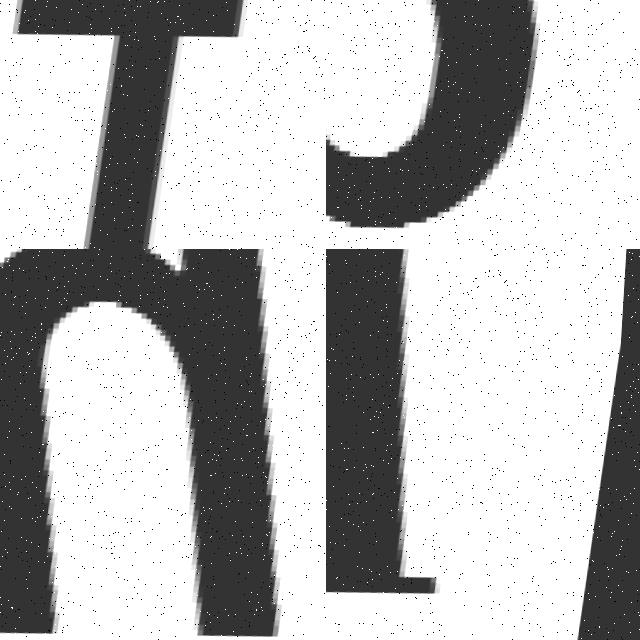9: (326, 0, 598, 249)
F: (0, 0, 279, 249)
H: (0, 249, 326, 640)
P: (326, 249, 447, 605)
